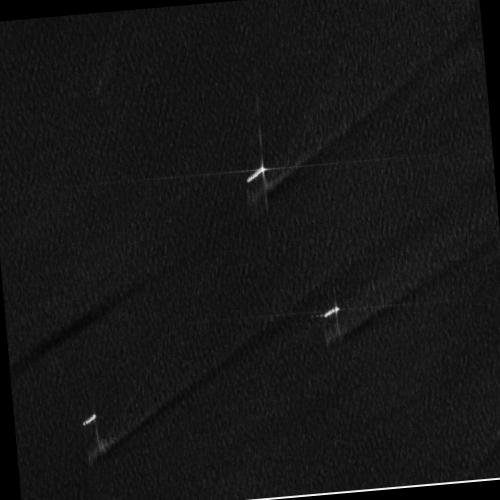ship: (245, 165, 265, 183), (323, 305, 339, 319), (81, 412, 97, 426)
